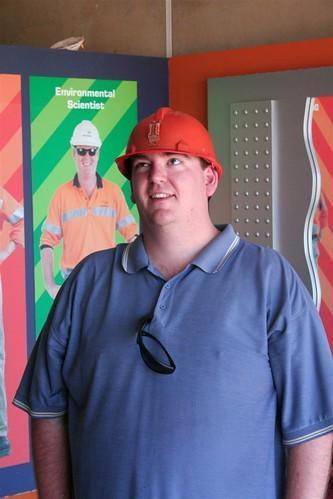vest: (39, 177, 139, 284)
